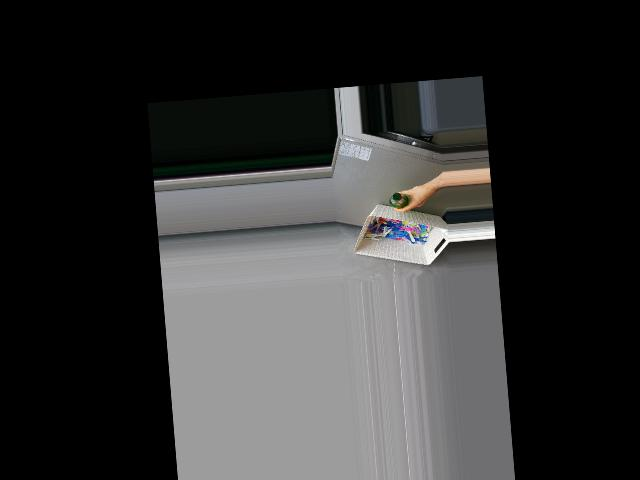beer: (388, 191, 409, 209)
